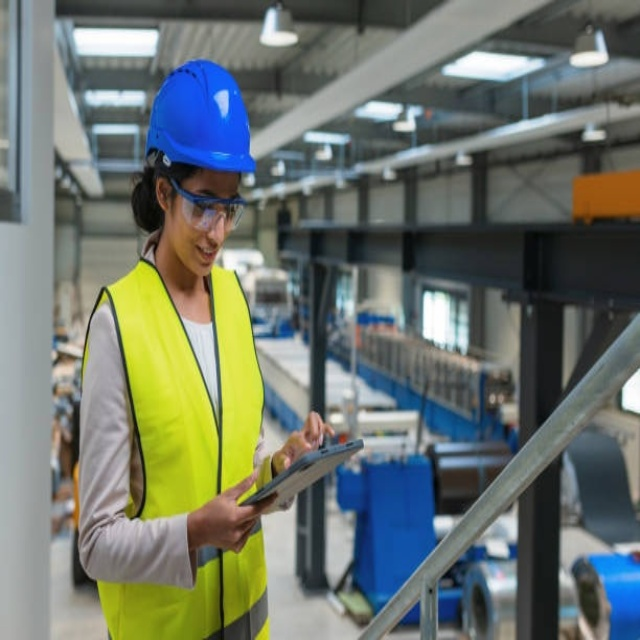Gafas: (166, 174, 245, 231)
Sin_guantes: (197, 469, 277, 557), (269, 400, 338, 472)
Sin_mascara: (189, 235, 226, 275)
